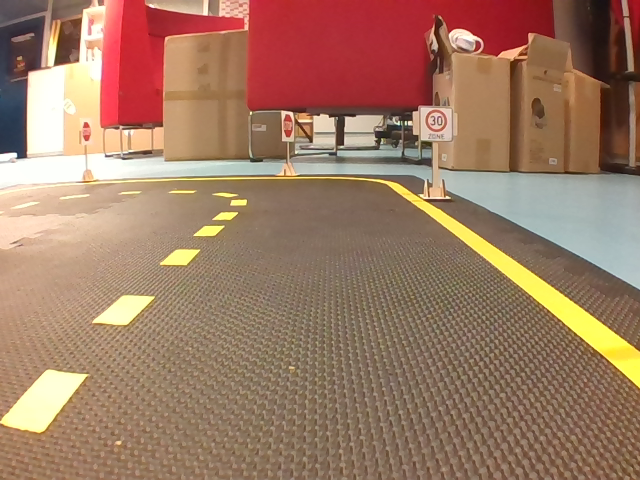30: (420, 106, 451, 141)
stop: (281, 111, 295, 143), (81, 118, 93, 146)
